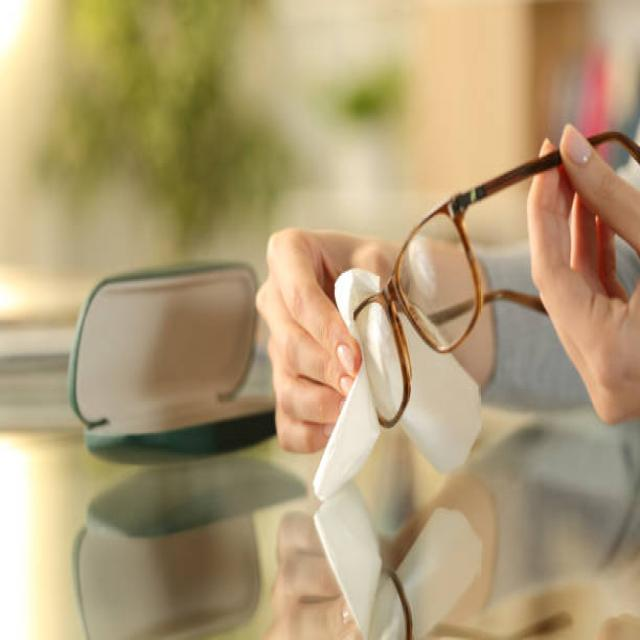glasses: (296, 113, 640, 497)
